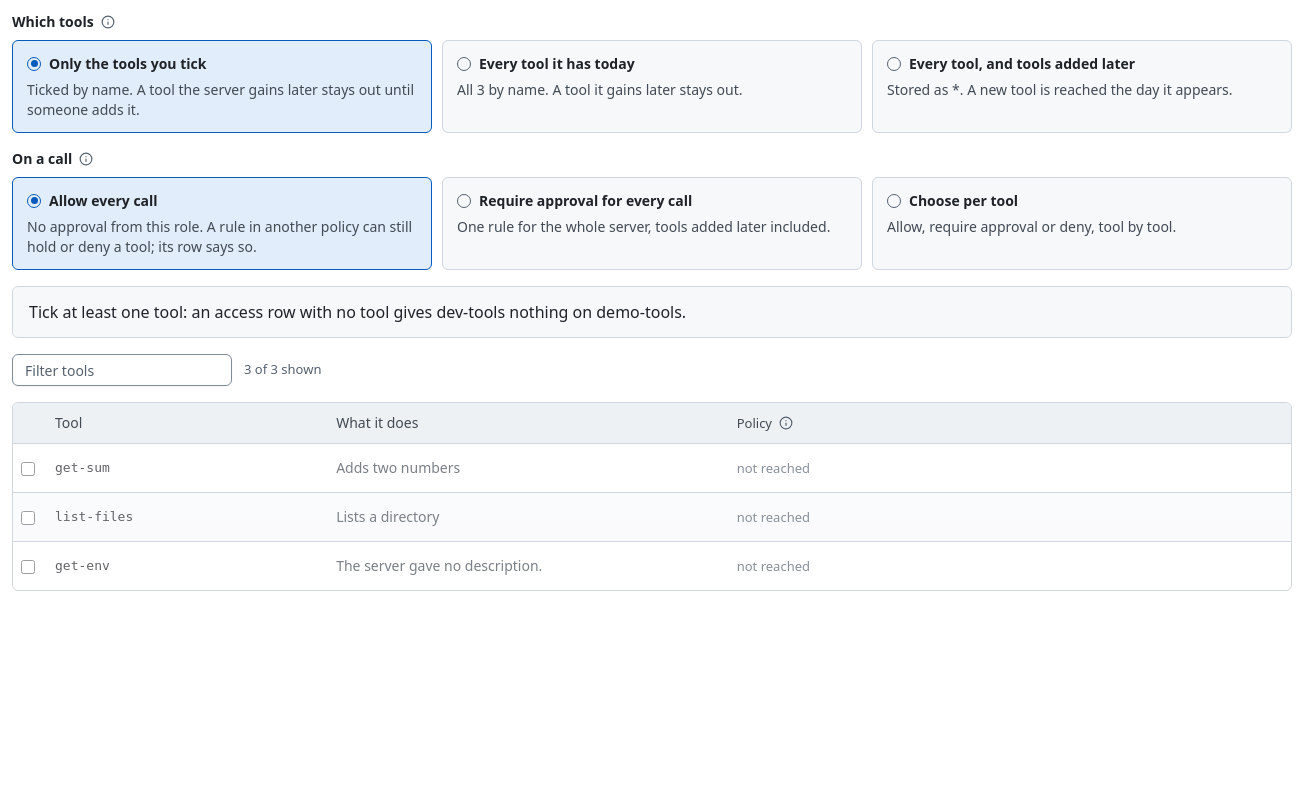
Test: the access editor › narrows the list to the filter and says when nothing matches
Type "get" into the field labelled "Filter tools". click: (122, 370)
box: 12,354 -> 232,386
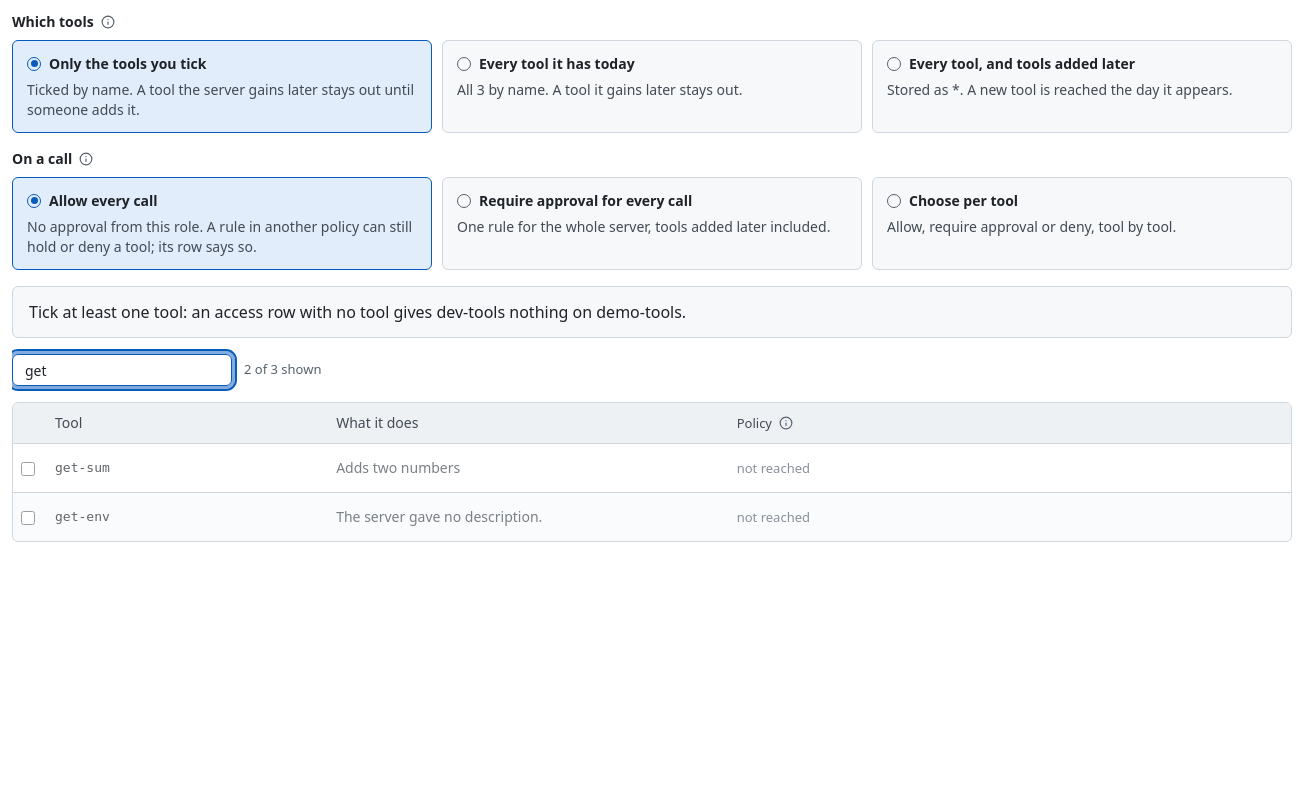
Result: the text "2 of 3 shown" is shown at 244,360 -> 322,380
Replace the text in the field named "Filter tools" with "nothing". click: (122, 370)
box: 12,354 -> 232,386
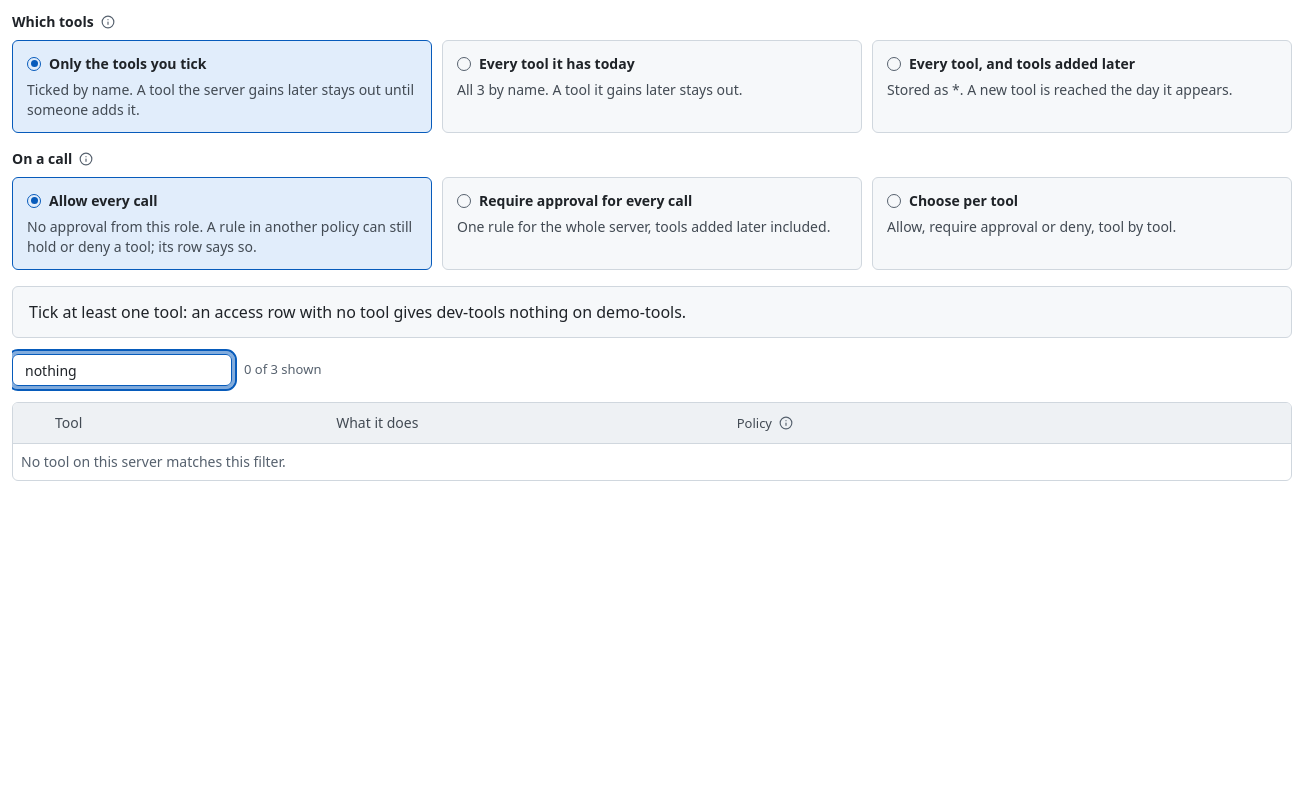
Result: the text "No tool on this server matches this filter." is shown at 13,443 -> 1291,480
